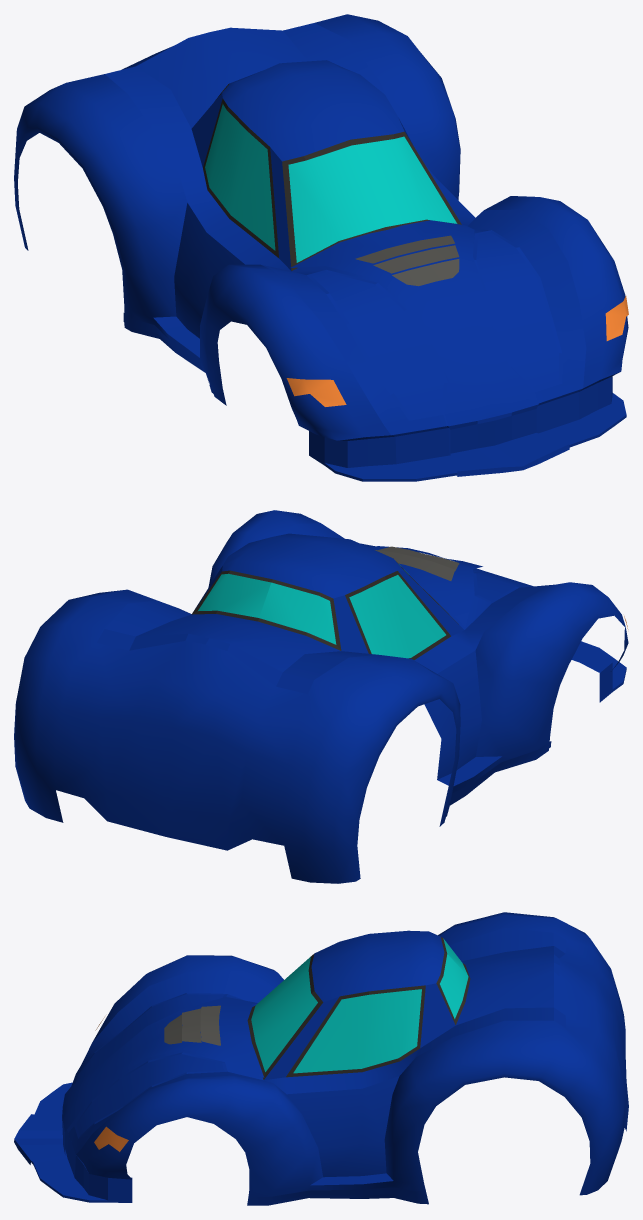
The model's file is LuxCasing00C05.gltf.
3 renders of one model, top to bottom at view 1: azimuth 30°, elevation 25°; view 2: azimuth 150°, elevation 25°; view 3: azimuth 270°, elevation 25°, orthographic. The views are drawn at different scales.
Visible parts, largest first — view 1: LuxCasing00C05; view 2: LuxCasing00C05; view 3: LuxCasing00C05.
Part boxes in pixels (x1,y1,x2,y2): LuxCasing00C05: (14,14,628,481); LuxCasing00C05: (14,510,628,883); LuxCasing00C05: (14,912,628,1205).
Size of the model in its own units: 0.2129 by 0.129 by 0.3654.
Materials: 1 (1 with a texture image).
